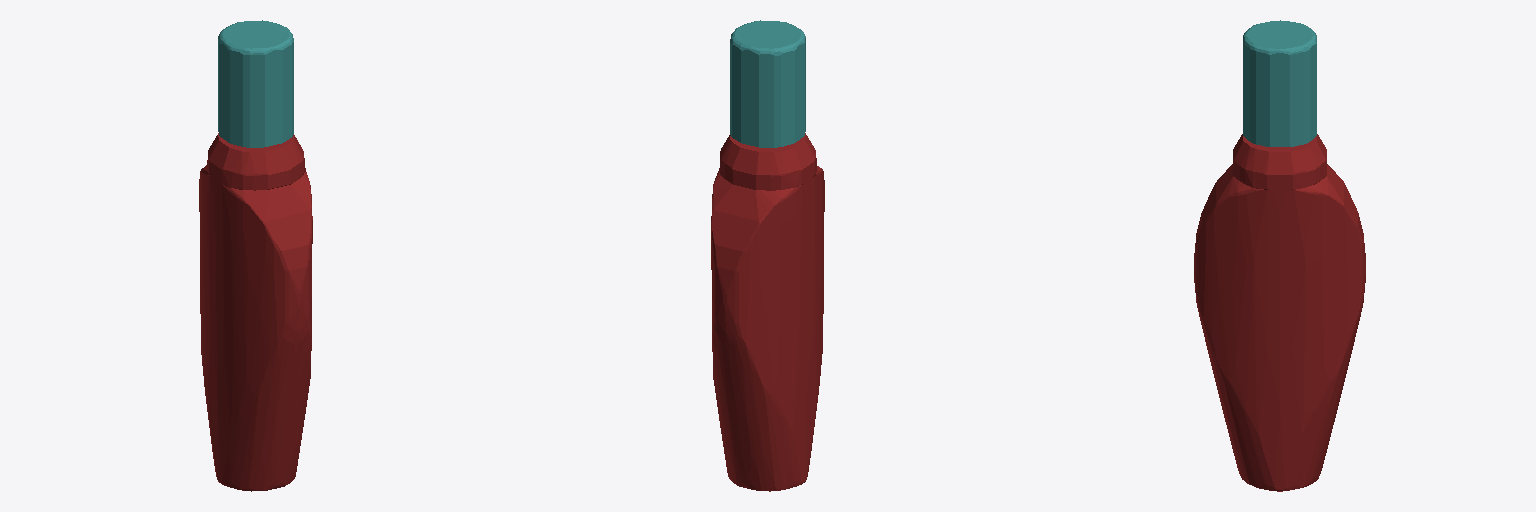
URDF robot description (root):
<robot name="root">
  <link name="bottle_body">
    <inertial>
      <origin xyz="0 0 0" rpy="0 0 0"/>
    </inertial>
    <mass value="1.00E-02"/>
    <visual>
      <origin xyz="0 0 0" rpy="0 0 0"/>
      <geometry>
        <mesh filename="core-bottle-9cec36de93bb49d3f07ead639233915e-coacd_convex_piece_1.obj" scale="1.0000E-01 1.0000E-01 1.0000E-01"/>
      </geometry>
      <material name="">
        <color rgba="6.00E-01 2.00E-01 2.00E-01 1"/>
      </material>
    </visual>
    <collision>
      <origin xyz="0 0 0" rpy="0 0 0"/>
      <geometry>
        <mesh filename="core-bottle-9cec36de93bb49d3f07ead639233915e-coacd_convex_piece_1.obj" scale="1.0000E-01 1.0000E-01 1.0000E-01"/>
      </geometry>
    </collision>
    <visual>
      <origin xyz="0 0 0" rpy="0 0 0"/>
      <geometry>
        <mesh filename="core-bottle-9cec36de93bb49d3f07ead639233915e-coacd_convex_piece_2.obj" scale="1.0000E-01 1.0000E-01 1.0000E-01"/>
      </geometry>
      <material name="">
        <color rgba="6.00E-01 2.00E-01 2.00E-01 1"/>
      </material>
    </visual>
    <collision>
      <origin xyz="0 0 0" rpy="0 0 0"/>
      <geometry>
        <mesh filename="core-bottle-9cec36de93bb49d3f07ead639233915e-coacd_convex_piece_2.obj" scale="1.0000E-01 1.0000E-01 1.0000E-01"/>
      </geometry>
    </collision>
  </link>
  <link name="bottle_cap">
    <origin xyz="0 0 0.002" rpy="0 0 0"/>
    <mass value="1.00E-02"/>
    <visual>
      <origin xyz="0 0 0.002" rpy="0 0 0"/>
      <geometry>
        <mesh filename="core-bottle-9cec36de93bb49d3f07ead639233915e-coacd_convex_piece_0.obj" scale="1.0000E-01 1.0000E-01 1.0000E-01"/>
      </geometry>
      <material name="">
        <color rgba="3.00E-01 6.00E-01 6.00E-01 1"/>
      </material>
    </visual>
    <collision>
      <origin xyz="0 0 0.002" rpy="0 0 0"/>
      <geometry>
        <mesh filename="core-bottle-9cec36de93bb49d3f07ead639233915e-coacd_convex_piece_0.obj" scale="1.0000E-01 1.0000E-01 1.0000E-01"/>
      </geometry>
    </collision>
  </link>
  <joint name="bottle_cap_joint" type="revolute">
    <origin xyz="0 0 0" rpy="0 0 0"/>
    <parent link="bottle_body"/>
    <child link="bottle_cap"/>
    <axis xyz="0 0 1"/>
    <limit lower="0.00" upper="6.28"/>
    <dynamics damping="0.05"/>
  </joint>
</robot>

--- What the picture shows (computed from the rendered views, not written in the file) ---
The picture shows the robot from 3 angles, left to right: view 1: azimuth 30°, elevation 25°; view 2: azimuth 150°, elevation 25°; view 3: azimuth 270°, elevation 25°; orthographic projection.
Robot: root — 2 links, 1 joints (1 revolute); root link bottle_body; default pose: every joint at zero.
Links seen in each view (by area): view 1: bottle_body, bottle_cap; view 2: bottle_body, bottle_cap; view 3: bottle_body, bottle_cap.
Link boxes in pixels (bbox=[...]): bottle_body: bbox=[199, 133, 312, 491]; bottle_cap: bbox=[218, 20, 293, 147]; bottle_body: bbox=[711, 133, 824, 491]; bottle_cap: bbox=[730, 20, 805, 147]; bottle_body: bbox=[1194, 134, 1365, 491]; bottle_cap: bbox=[1243, 20, 1316, 146].
Bounding box of the posed robot: 0.0378 × 0.0693 × 0.1953 m (x, y, z).
Meshes: 3 distinct files referenced, 3 mesh visuals loaded (3 OBJ).